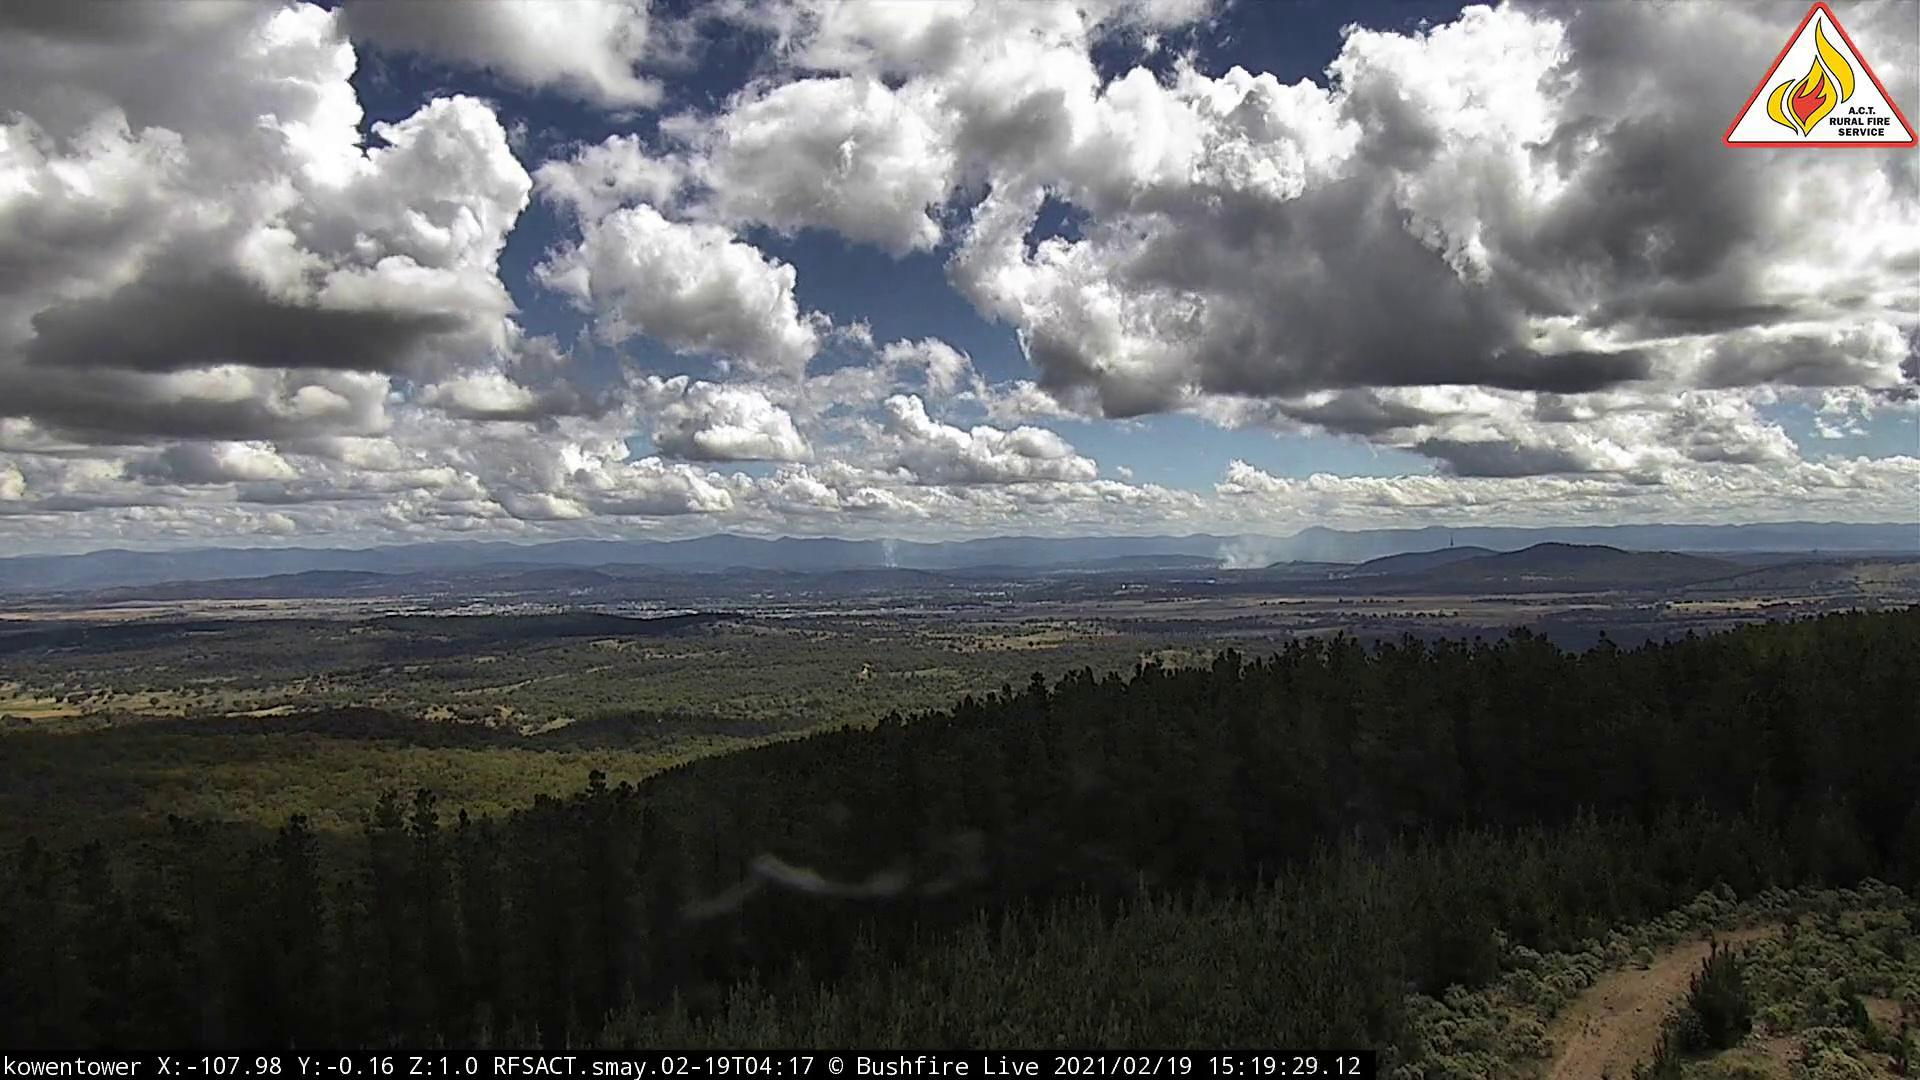Smoke: (1211, 527, 1290, 578), (876, 538, 909, 574)
